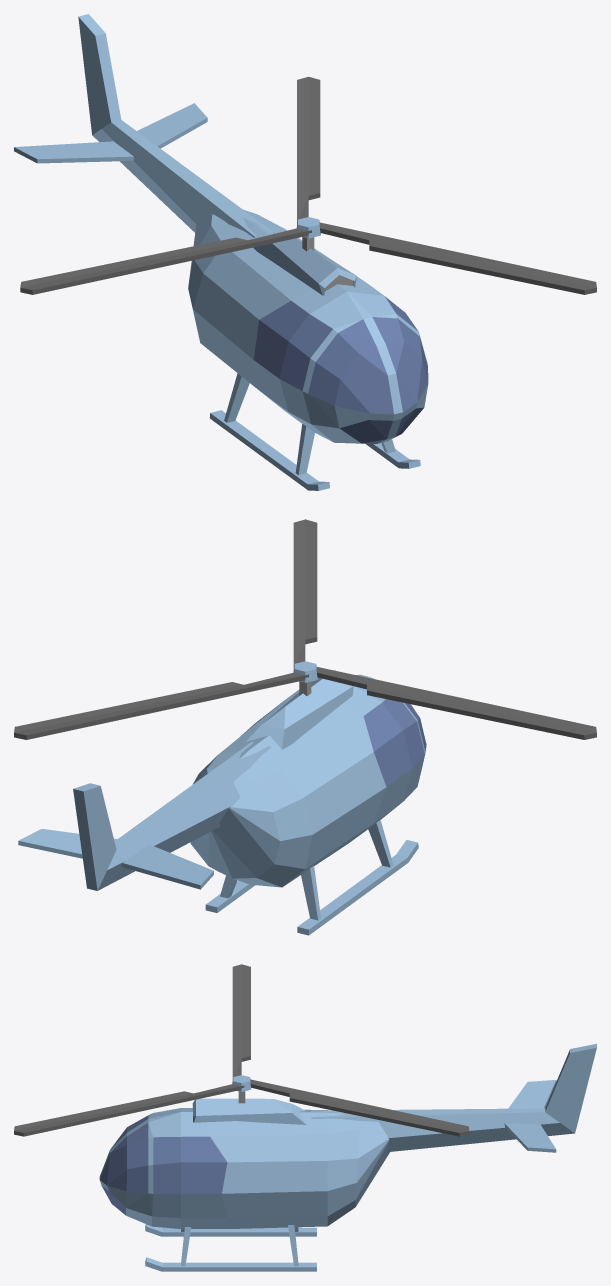
File: transport_air_002.fbx
The picture shows the model from 3 angles, top to bottom: view 1: azimuth 30°, elevation 25°; view 2: azimuth 150°, elevation 25°; view 3: azimuth 270°, elevation 25°; orthographic projection. The views are drawn at different scales.
Parts seen in each view (by area): view 1: transport_air_002; view 2: transport_air_002; view 3: transport_air_002.
Boxes of the visible parts, x1=… form: transport_air_002: x1=14, y1=14, x2=596, y2=490; transport_air_002: x1=14, y1=519, x2=596, y2=935; transport_air_002: x1=14, y1=964, x2=596, y2=1271.
Size of the model in its own units: 440 by 251 by 642.
